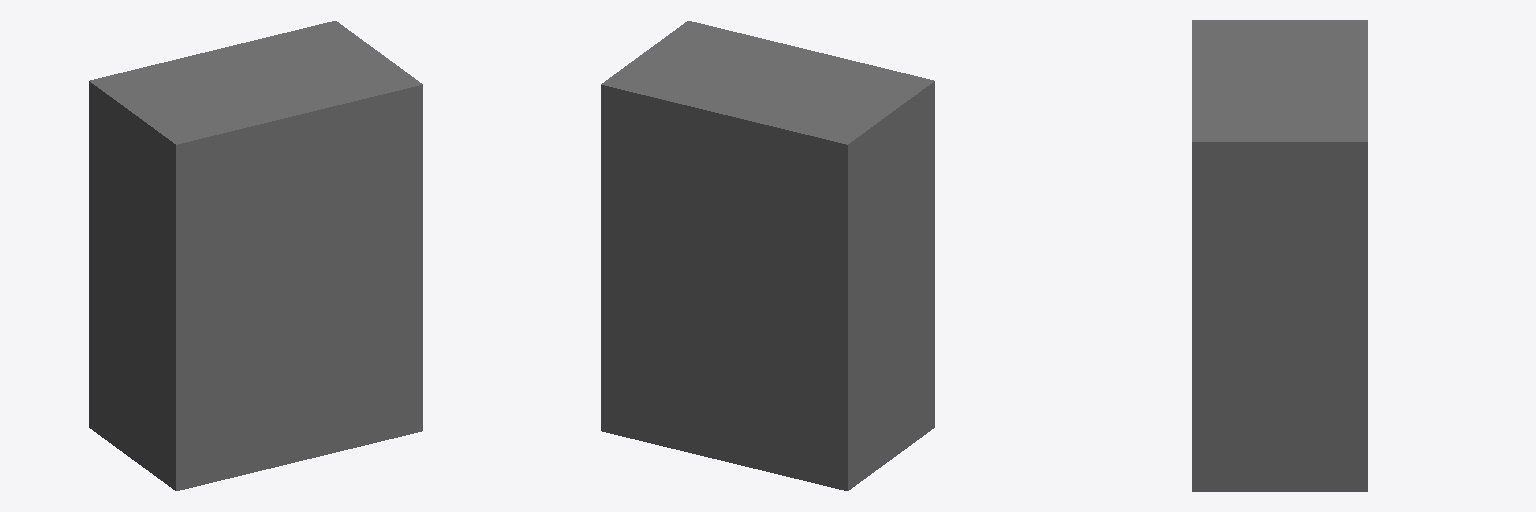
URDF robot description (sodaA):
<?xml version="1.0"?>
<robot name="sodaA">
	<material name="white">
		<color rgba="1 1 1 1" />
	</material>
	<material name="orange">
		<color rgba="1 0.66 0 1" />
	</material>
	<material name="purple">
		<color rgba="0.66 0 0.66 1" />
	</material>
	<material name="grey">
		<color rgba="0.5 0.5 0.5 1" />
	</material>
	<link name="sodaA">
		<inertial>
			<origin rpy="0 0 0" xyz="0 0 0" />
			<mass value="0.015" />
			<!--inertia ixx="0.000360" ixy="0" ixz="0" iyy="0.0000615" iyz="0" izz="0.00036" /-->
		</inertial>
    		<visual>
	      		<origin rpy="0 0 0" xyz="0 0 0"/>
      			<geometry>
        			<mesh filename="sodaA.obj"/>
      			</geometry>
			<material name="grey" />
         	</visual>
    		<collision>
      			<origin rpy="0 0 0" xyz="0 0 0"/>
      			<geometry>
        			<mesh filename="sodaA.obj"/>
      			</geometry>
    		</collision>
	</link>
</robot>

--- Render facts (derived) ---
The picture shows the robot from 3 angles, left to right: view 1: azimuth 30°, elevation 25°; view 2: azimuth 150°, elevation 25°; view 3: azimuth 270°, elevation 25°; orthographic projection.
Model sodaA with 1 links and 0 joints (none), rooted at sodaA, posed all joints at 0.
Visible links, largest first — view 1: sodaA; view 2: sodaA; view 3: sodaA.
Boxes of the visible links, x1,y1,x2,y2 form: sodaA: [89, 21, 422, 490]; sodaA: [601, 21, 934, 490]; sodaA: [1192, 20, 1367, 491].
Bounding box of the posed robot: 0.088 × 0.054 × 0.118 m (x, y, z).
Meshes: 1 distinct files referenced, 1 mesh visuals loaded (1 OBJ).
